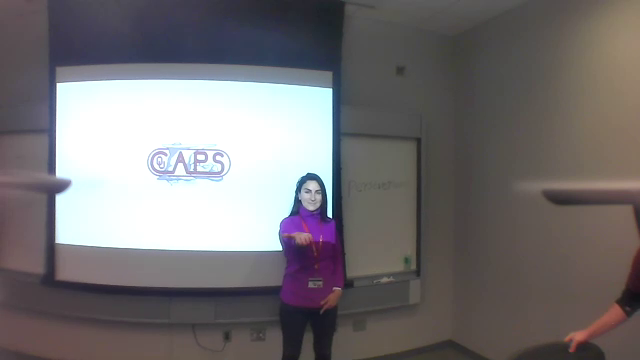land: (285, 229, 321, 250)
